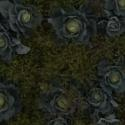cabbage: (52, 91, 73, 108), (63, 16, 82, 34), (107, 69, 122, 88), (15, 8, 31, 24), (92, 90, 106, 105), (110, 19, 124, 30), (0, 33, 9, 49), (53, 117, 67, 125), (0, 90, 6, 108), (95, 120, 111, 125), (115, 0, 125, 6)
